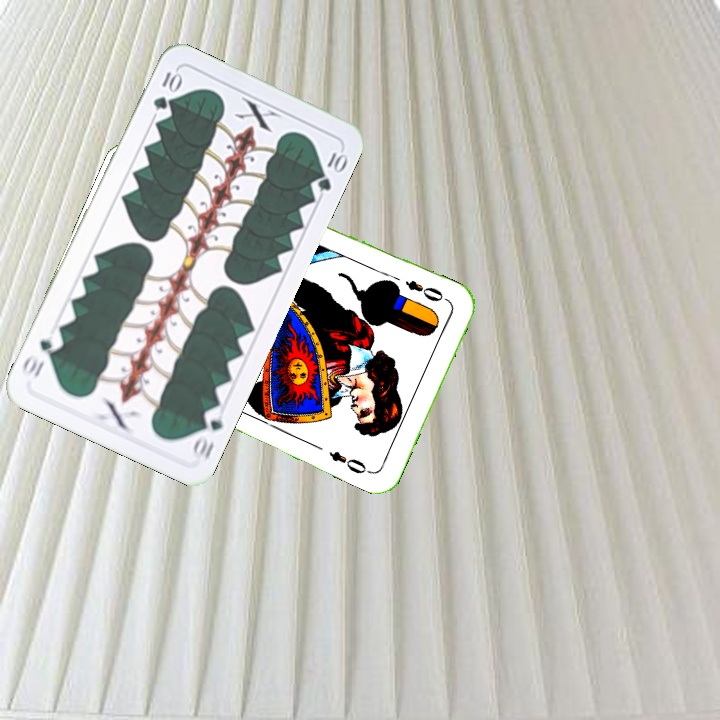EO: (401, 276, 452, 305)
G10: (188, 403, 226, 462), (149, 67, 184, 113)
